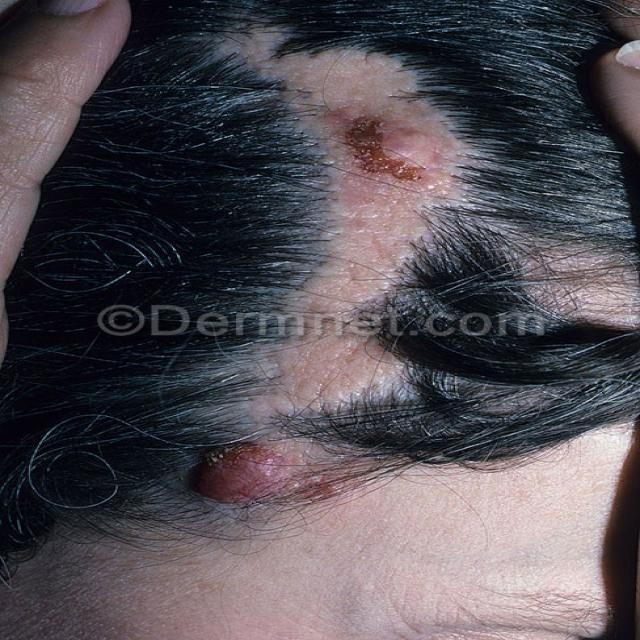Eczema: (332, 106, 429, 185)
